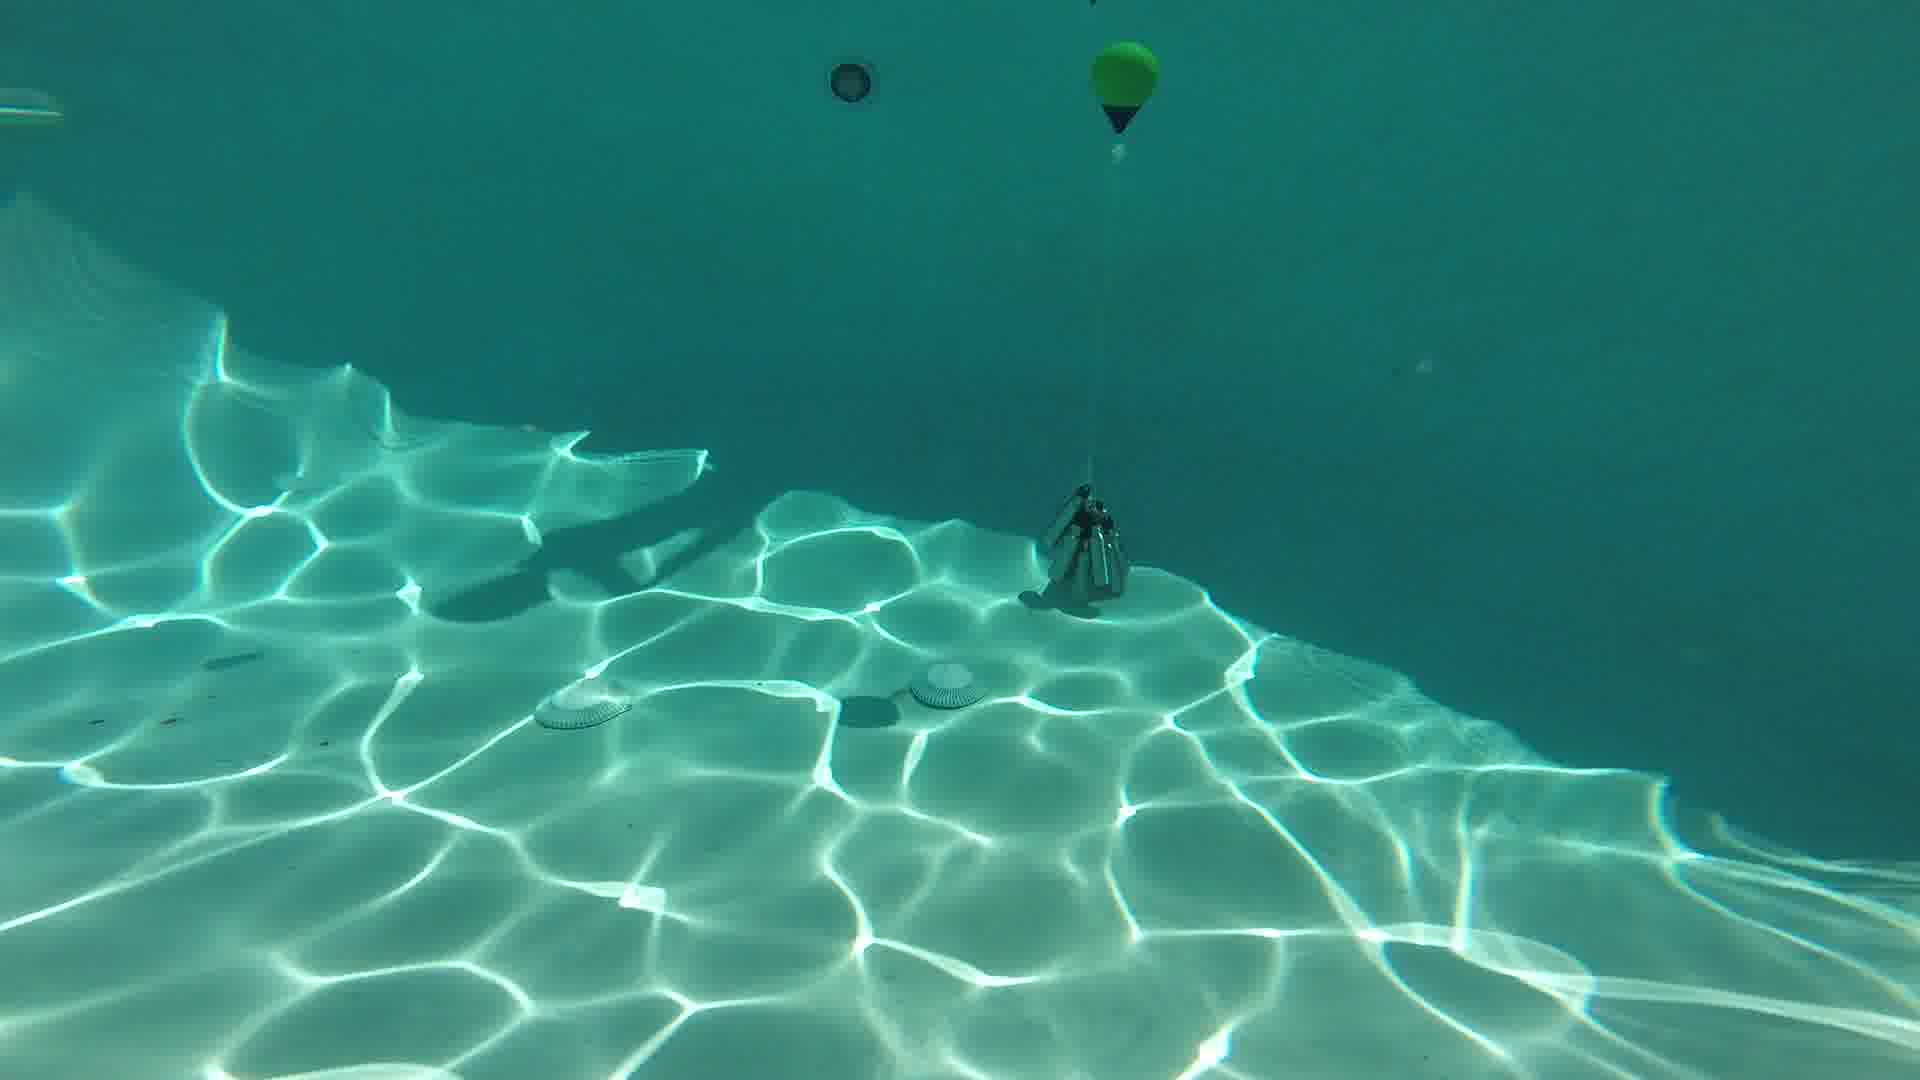yellow_buoy: (1091, 40, 1159, 164)
